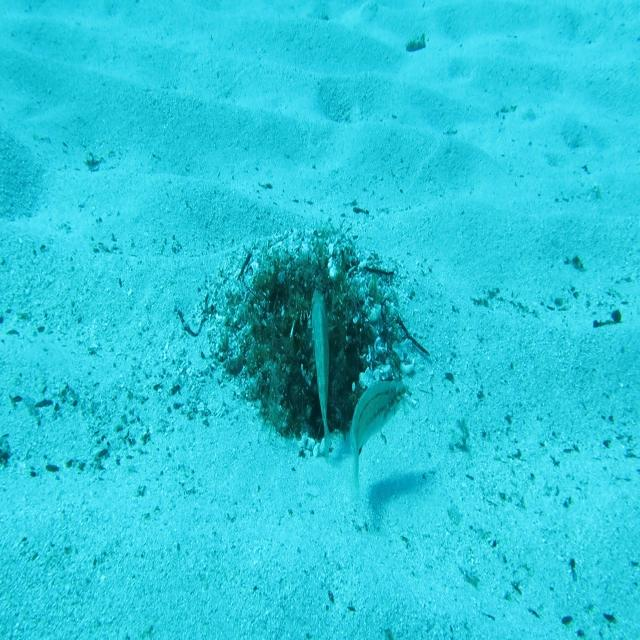FAN: (305, 286, 336, 466)
core_nest: (288, 267, 345, 318)
female: (347, 377, 407, 508)
nest: (194, 216, 418, 466)
vegetation: (403, 30, 428, 58)
